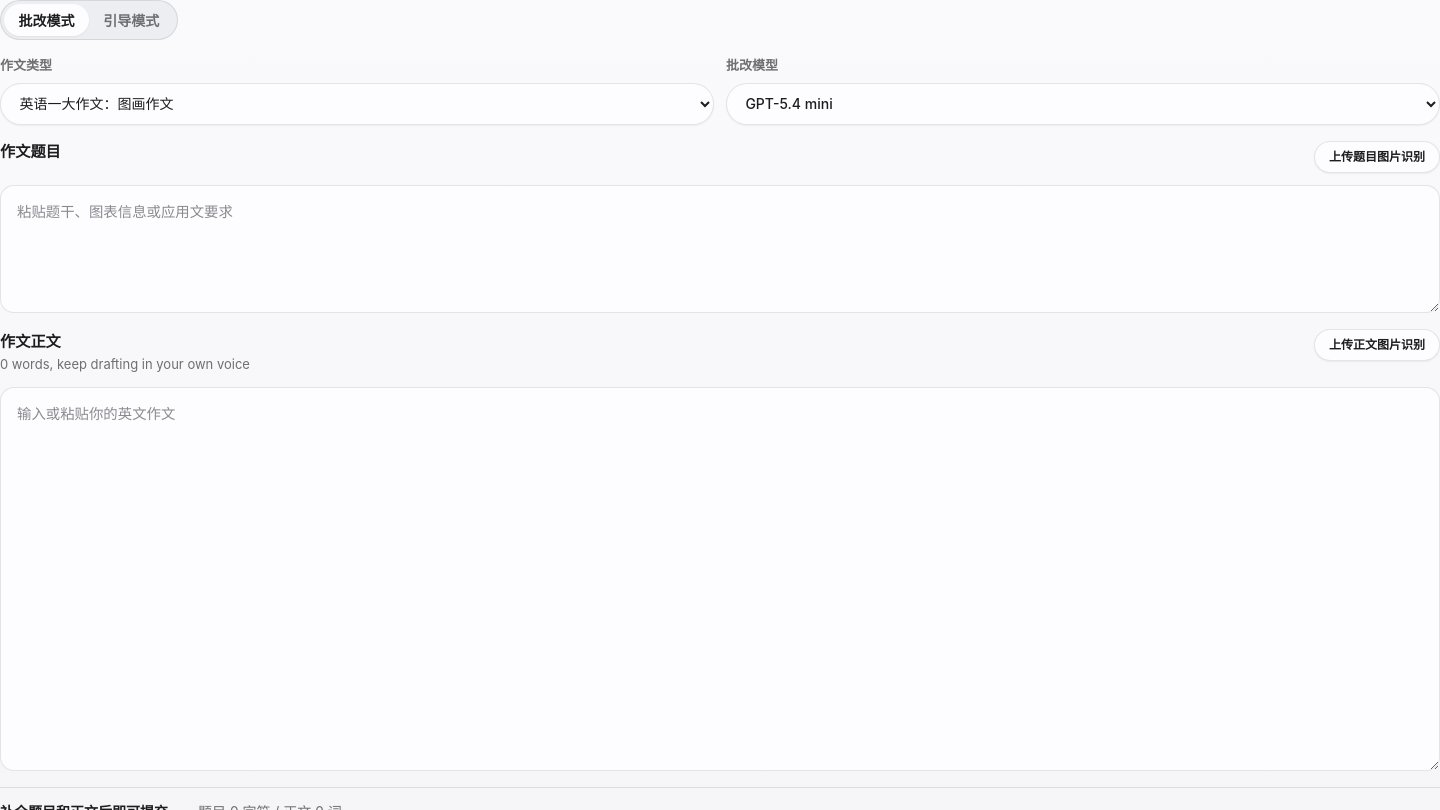
EssaySubmitForm › requests an idle writing hint in guidance mode and applies it
Step 1. Click the button "引导模式" → (131, 20), box [89, 4, 174, 36]
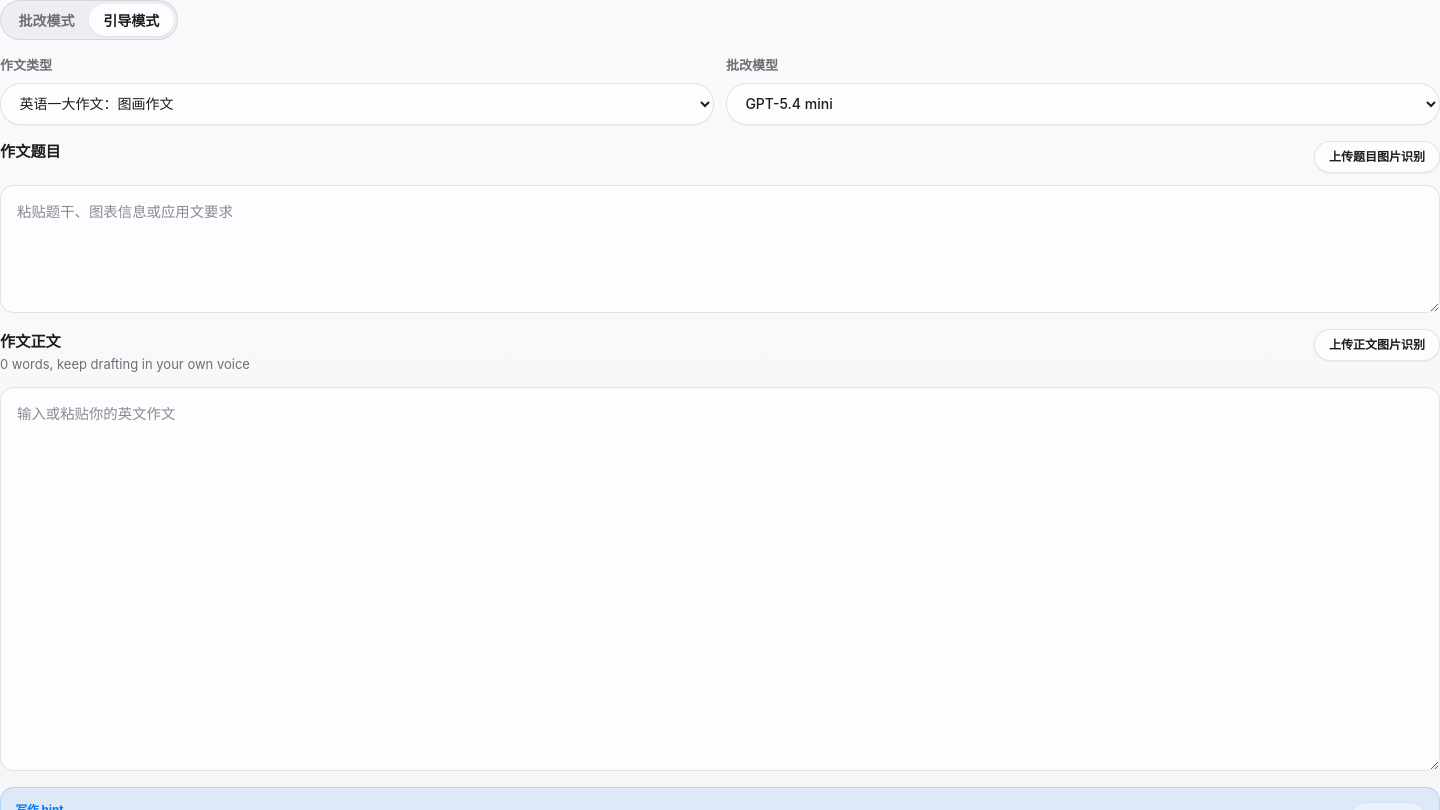
Step 2. Type "Write about reading habits." into the text box labelled "作文题目" → (720, 249), box [0, 185, 1439, 313]
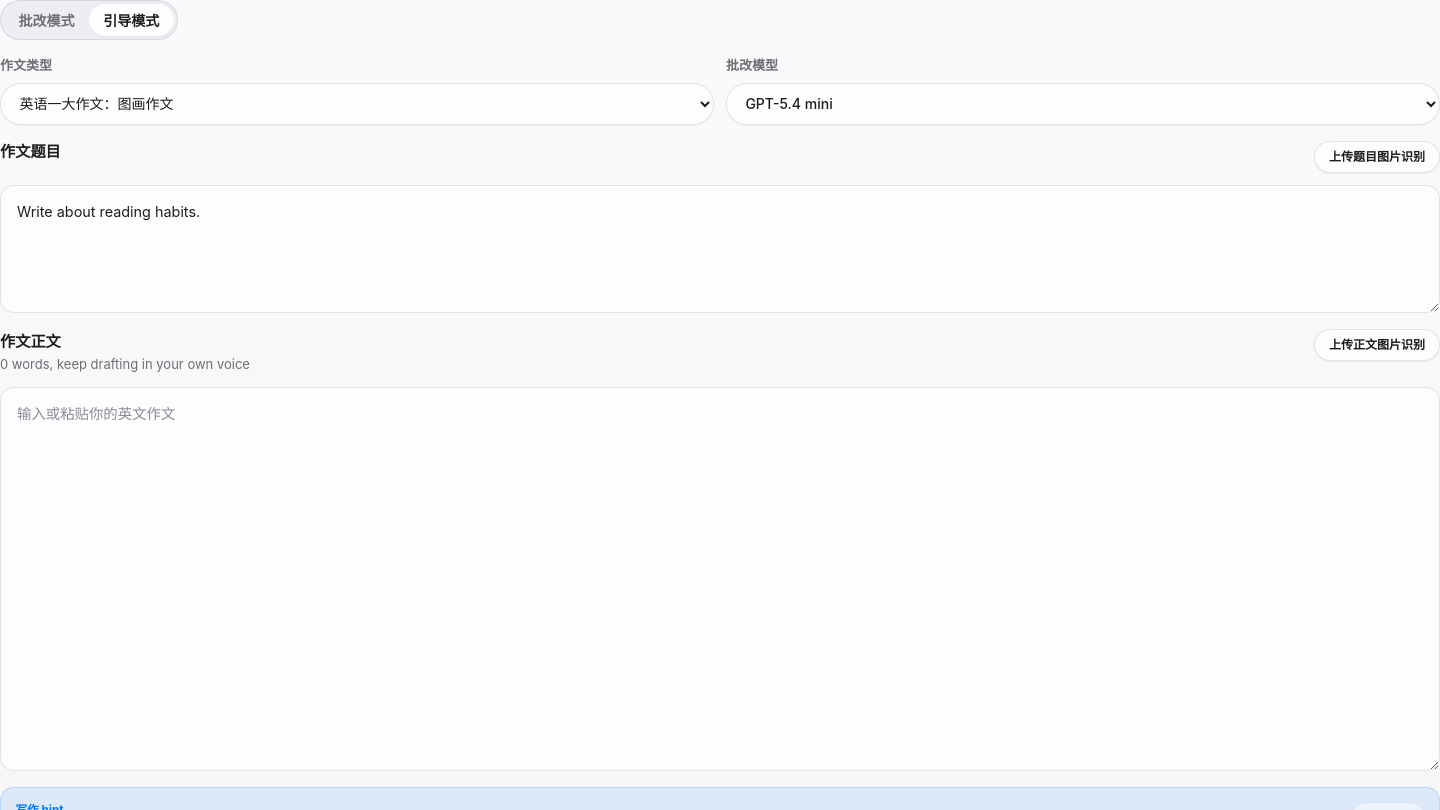
Step 3. Type "The chart shows a clear change." into the text box labelled "作文正文" → (720, 579), box [0, 387, 1439, 771]
(page scrolled)
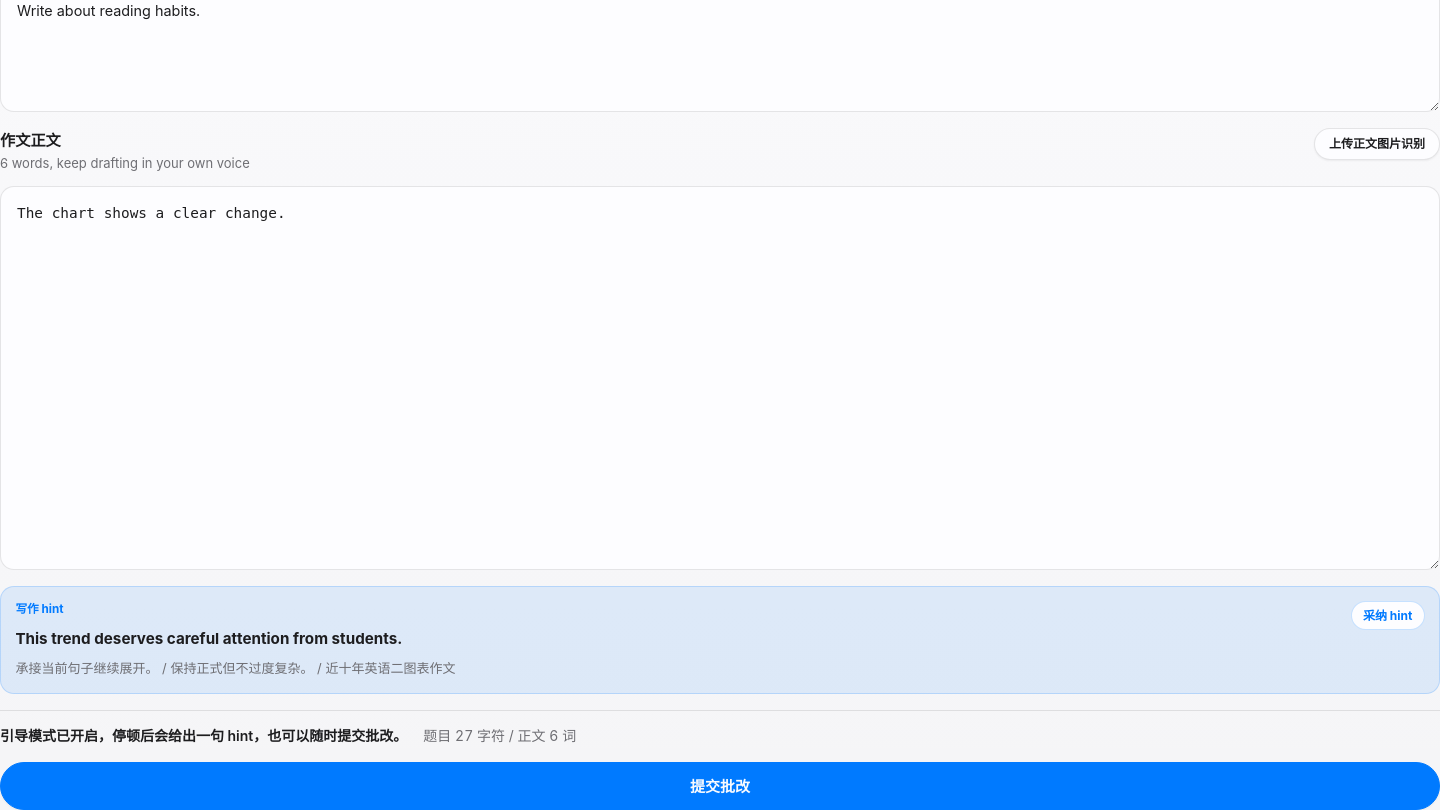
Expected: the text "This trend deserves careful attention from students." is shown, [15, 629, 402, 648]
Step 4. Click the button "采纳 hint" → (1388, 616), box [1351, 601, 1425, 630]
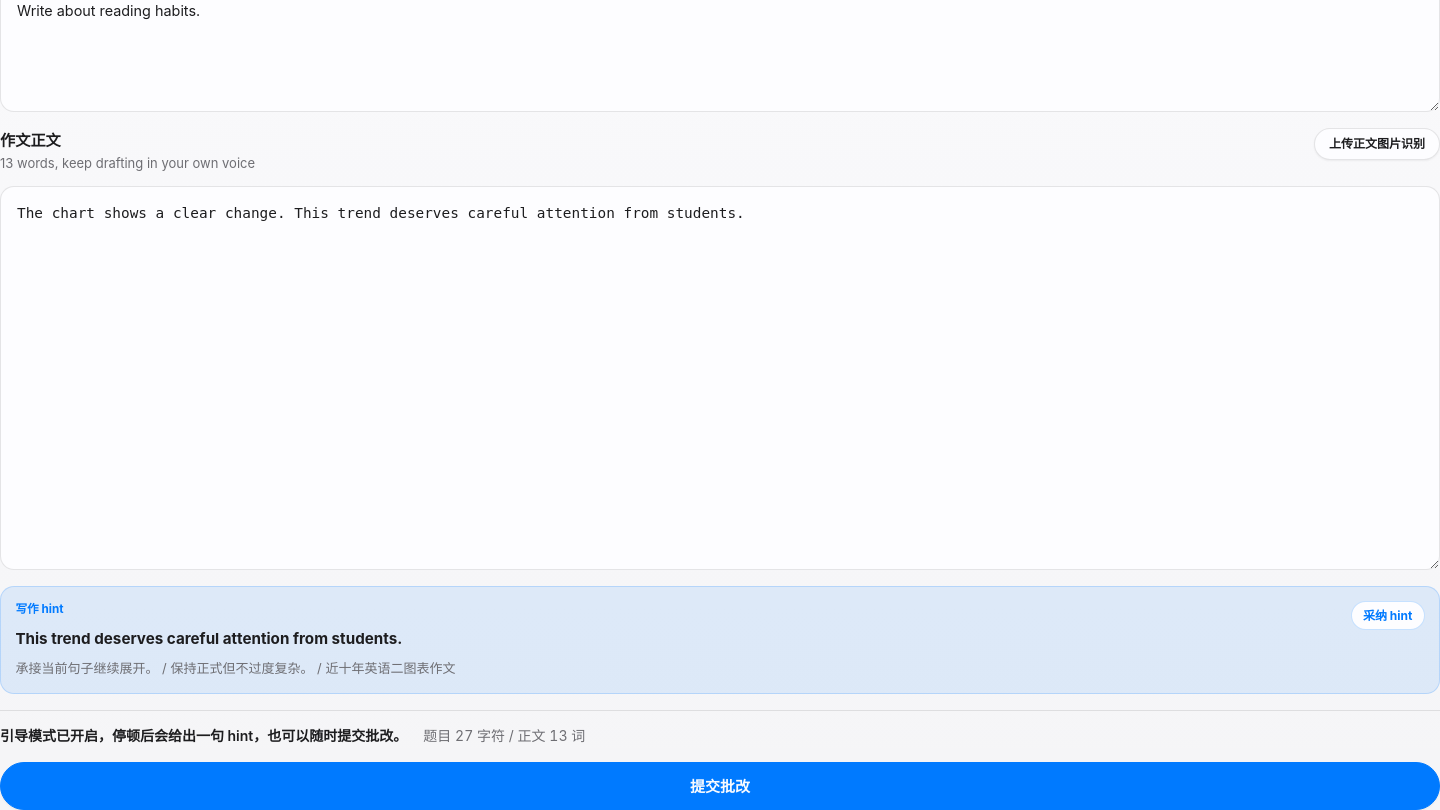
Expected: the text box labelled "作文正文" holds "The chart shows a clear change. This trend deserves careful attention from students.", [0, 186, 1439, 570]
